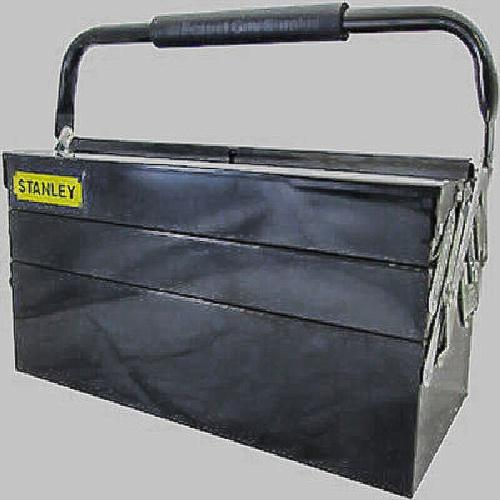cabinet: (22, 36, 485, 469)
